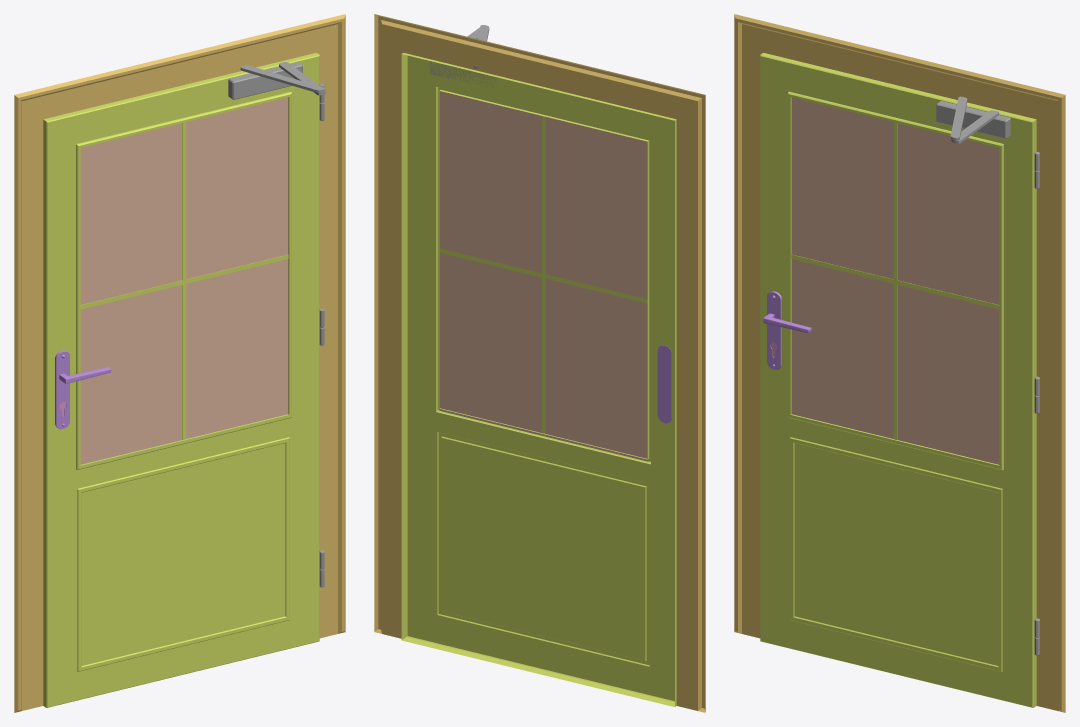
The model's file is door.fbx.
The picture shows the model from 3 angles, left to right: view 1: azimuth 30°, elevation 25°; view 2: azimuth 150°, elevation 25°; view 3: azimuth 330°, elevation 25°; orthographic projection.
Parts seen in each view (by area): view 1: door; view 2: door; view 3: door.
Part boxes in pixels (bbox=[...]): door: bbox=[14, 14, 345, 712]; door: bbox=[374, 14, 705, 712]; door: bbox=[734, 14, 1065, 712].
Bounding box in the file's own units: 114 × 203 × 27.29.
